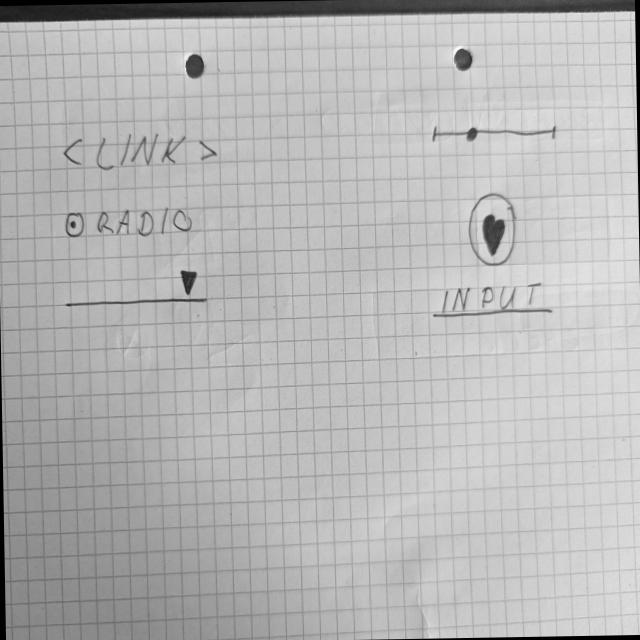icon-button: (466, 192, 521, 271)
input: (430, 280, 554, 323)
link: (62, 129, 220, 174)
radio: (64, 205, 195, 243)
select: (63, 268, 211, 311)
slider: (430, 122, 560, 147)
